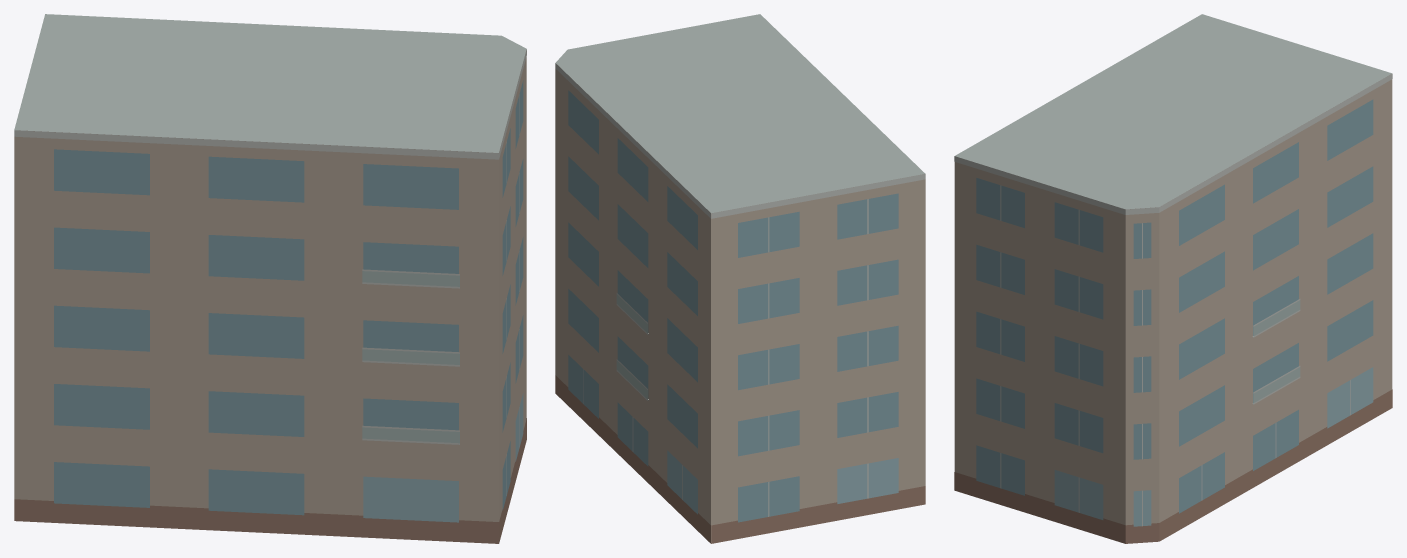
Rendered from survey-upis-32918980.glb.
3 renders of one model, left to right at view 1: azimuth 30°, elevation 25°; view 2: azimuth 150°, elevation 25°; view 3: azimuth 270°, elevation 25°, orthographic. The views are drawn at different scales.
Parts seen in each view (by area): view 1: survey-upis-32918980.tmp; view 2: survey-upis-32918980.tmp; view 3: survey-upis-32918980.tmp.
Boxes of the visible parts, x1,y1,x2,y2 form: survey-upis-32918980.tmp: (14, 14, 526, 543); survey-upis-32918980.tmp: (555, 14, 925, 543); survey-upis-32918980.tmp: (954, 14, 1392, 543).
Bounding box in the file's own units: 18.11 × 14.45 × 17.16.
